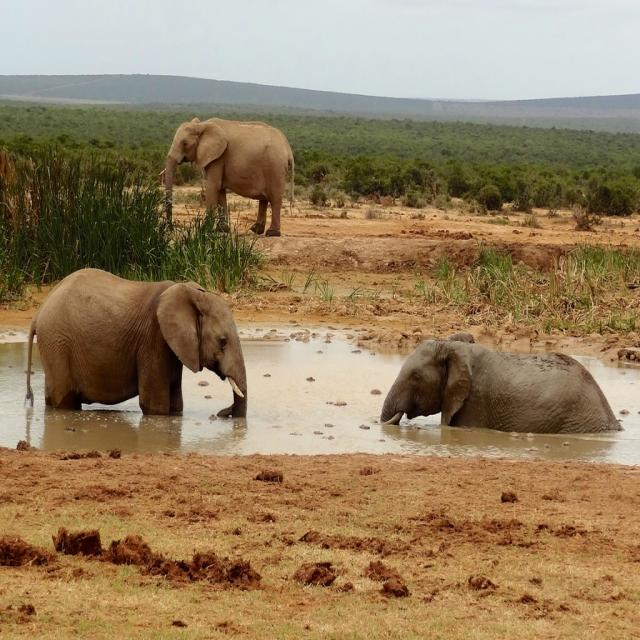Elephant: (25, 266, 247, 418), (380, 332, 624, 434), (159, 116, 295, 237)
